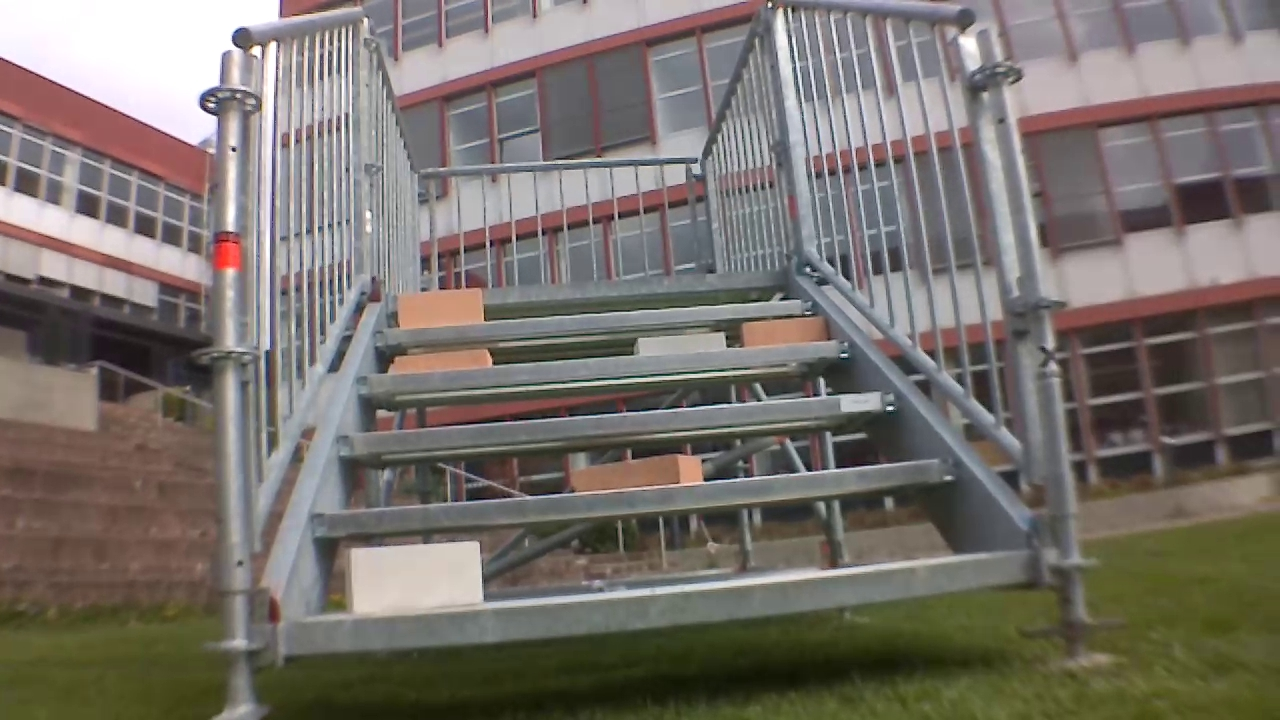brick: (348, 536, 486, 614), (570, 454, 707, 492), (394, 288, 487, 329), (389, 350, 493, 376), (741, 320, 830, 348), (636, 331, 726, 356)
edge: (278, 556, 1044, 657), (313, 456, 957, 544), (333, 391, 900, 458), (358, 338, 853, 395), (379, 303, 821, 348), (394, 267, 784, 297)
stairs: (206, 10, 1086, 686)
steps: (265, 267, 1049, 662)
